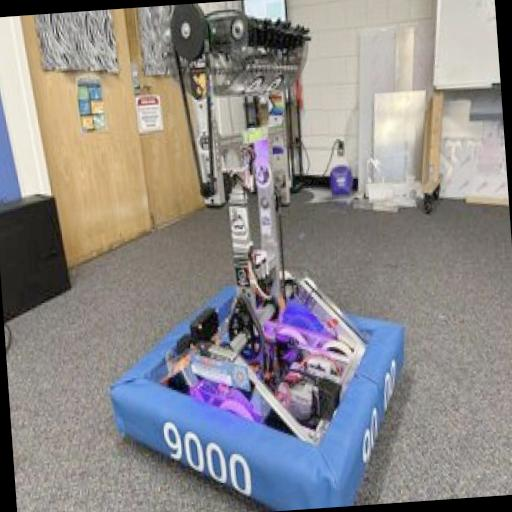robot: (45, 0, 447, 512)
